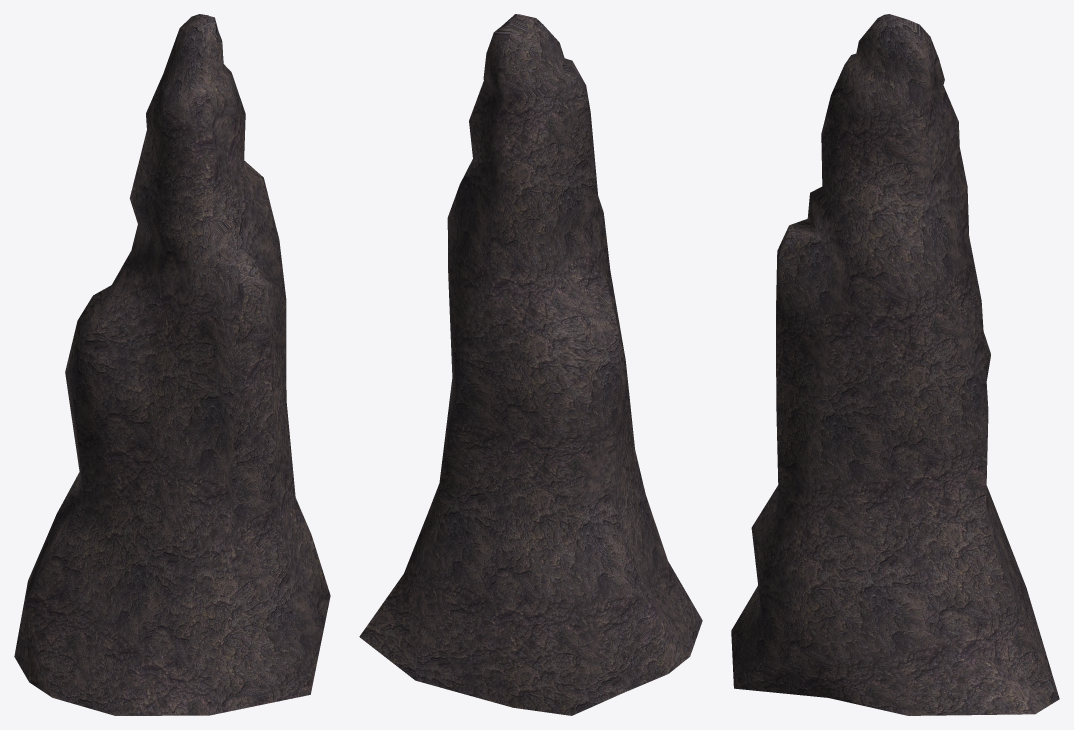
Rendered from rock_pillar_03.fbx.
3 renders of one model, left to right at view 1: azimuth 30°, elevation 25°; view 2: azimuth 150°, elevation 25°; view 3: azimuth 270°, elevation 25°, orthographic. The views are drawn at different scales.
Parts seen in each view (by area): view 1: rock_pillar_03; view 2: rock_pillar_03; view 3: rock_pillar_03.
Part boxes in pixels (x1,y1,x2,y2): rock_pillar_03: (14,14,330,715); rock_pillar_03: (359,14,702,715); rock_pillar_03: (731,14,1059,715).
Size of the model in its own units: 26.8 by 60.34 by 26.12.
